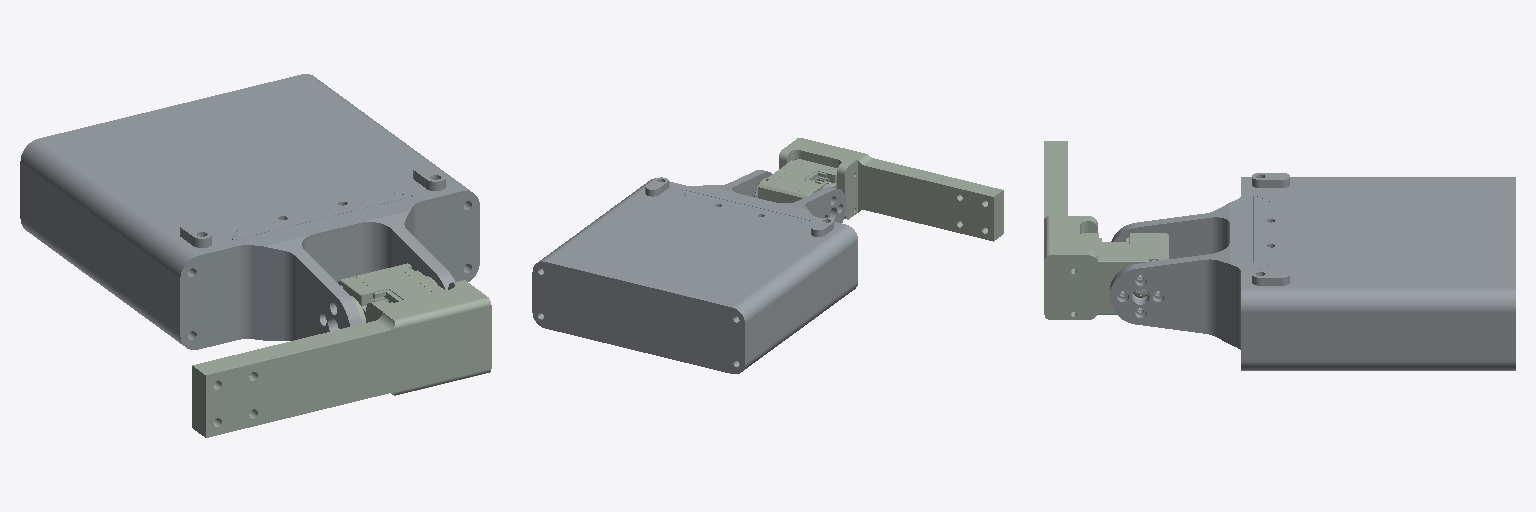
The robot description file, URDF, robot "sysID_XC330":
<?xml version="1.0" ?>
<robot name="sysID_XC330">
  <mujoco>
    <compiler strippath="false" balanceinertia="true" discardvisual="false"/>
  </mujoco>
  <link name="xc330">
    <visual>
      <origin xyz="0 0 0" rpy="0 -0 0"/>
      <geometry>
        <mesh filename="../assemblies/sysID_XC330/meshes/xc330_visual.stl"/>
      </geometry>
      <material name="xc330_material">
        <color rgba="0.66291664961446195026 0.70549986616795368199 0.66729895251604331996 1.0"/>
      </material>
    </visual>
    <inertial>
      <origin xyz="0.067523785979360526066 0.0091047662315145976714 0.0040548453010051110912" rpy="0 0 0"/>
      <mass value="0.037349999993091763384"/>
      <inertia ixx="7.1551666942363893246e-06" ixy="-4.4272140296375444478e-06" ixz="3.88600385203059254e-07" iyy="1.6392155116973046642e-05" iyz="3.364647266219376747e-07" izz="2.0987261801740487668e-05"/>
    </inertial>
  </link>
  <link name="arm_330">
    <visual>
      <origin xyz="0 0 0" rpy="0 -0 0"/>
      <geometry>
        <mesh filename="../assemblies/sysID_XC330/meshes/arm_330_visual.stl"/>
      </geometry>
      <material name="arm_330_material">
        <color rgba="0.63059283987567626983 0.65298952457695413898 0.67418901807298270423 1.0"/>
      </material>
    </visual>
    <inertial>
      <origin xyz="0.077771581880464596415 1.3637865613089529684e-05 -0.014499999999999879305" rpy="0 0 0"/>
      <mass value="0.25549999999999994937"/>
      <inertia ixx="0.00024322303213941348448" ixy="9.3950332757091710781e-08" ixz="5.9314470448743356968e-20" iyy="0.00041031606159673929875" iyz="3.8999390614646317898e-16" izz="0.00022144160734724412142"/>
    </inertial>
  </link>
  <joint name="joint_0" type="revolute">
    <origin xyz="0.089400000000000034994 0.021949857927858890116 0.0034193959459662072627" rpy="1.57079632679489678 -2.3592239273285399858e-16 1.5707963267948961139"/>
    <parent link="xc330"/>
    <child link="arm_330"/>
    <axis xyz="0 0 1"/>
    <limit effort="1" velocity="20" lower="-1.570796326794896558" upper="1.570796326794896558"/>
    <joint_properties friction="0.0"/>
  </joint>
</robot>

--- Render facts (derived) ---
3 views of the same robot in one strip: view 1: azimuth 30°, elevation 25°; view 2: azimuth 150°, elevation 25°; view 3: azimuth 270°, elevation 25° (orthographic).
Robot: sysID_XC330 — 2 links, 1 joints (1 revolute); root link xc330; default pose: every joint at zero.
Visible links, largest first — view 1: arm_330, xc330; view 2: arm_330, xc330; view 3: arm_330, xc330.
Link boxes in pixels (x1,y1,x2,y2): arm_330: (20,74,479,349); xc330: (192,263,491,437); arm_330: (532,170,857,373); xc330: (754,138,1003,241); arm_330: (1110,173,1515,370); xc330: (1044,141,1168,319).
Size in the robot's own frame: 0.1299 by 0.159 by 0.033 metres.
2 mesh visuals loaded from 2 distinct referenced files (2 binary STL).